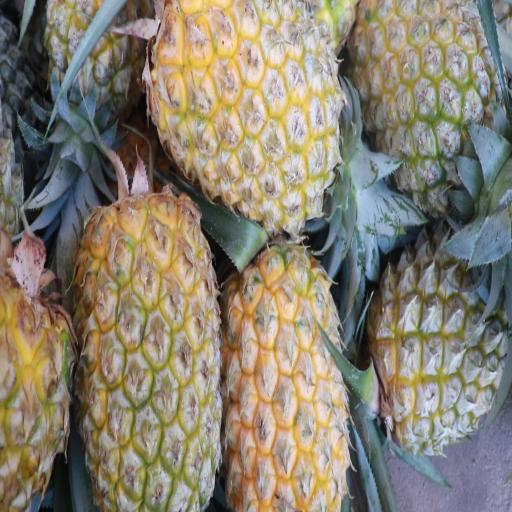------------------------------: (376, 236, 508, 452), (46, 0, 140, 165)
Pineapple - v8 v1: (80, 192, 219, 512), (152, 0, 335, 219), (226, 249, 352, 512), (356, 0, 498, 204)
